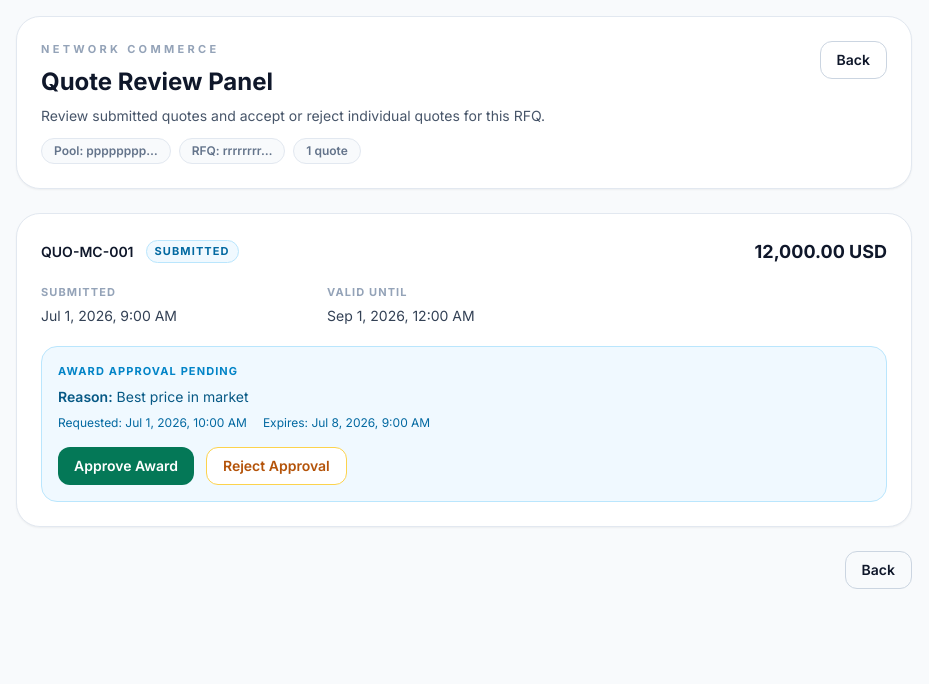
Test: MC-FE-13: approval expired and already-decided errors show safe messages › shows safe message for APPROVAL_EXPIRED error on approve action
This screenshot has width=929, height=684.
Click the button with aria-label "approve award for quote quo-mc-001" at (126, 466), box [58,447,194,485]
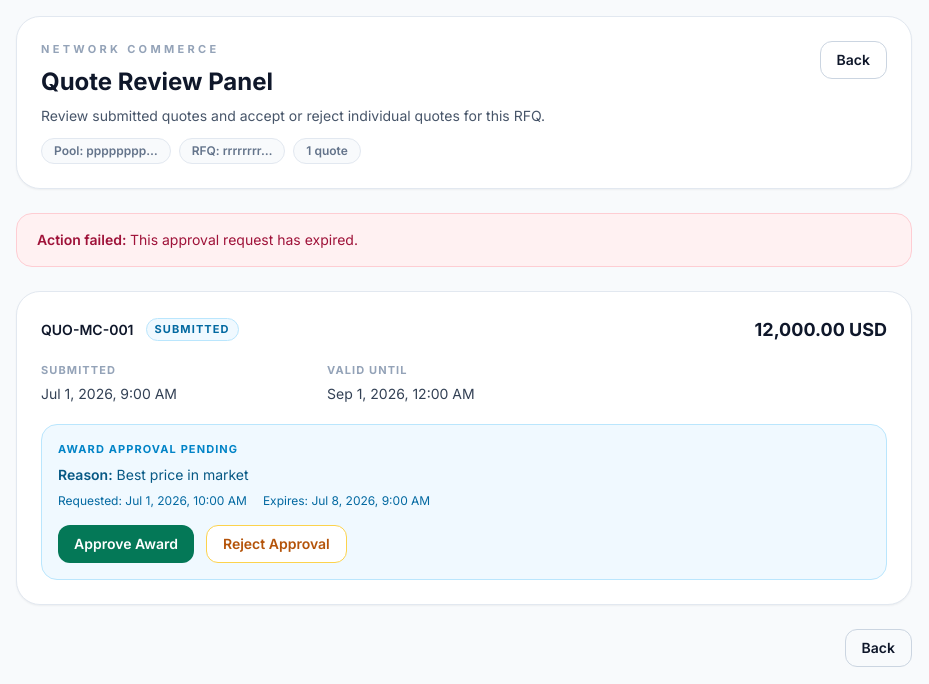
Check: the text "This approval request has expired." is shown, box [130,230,358,248]
